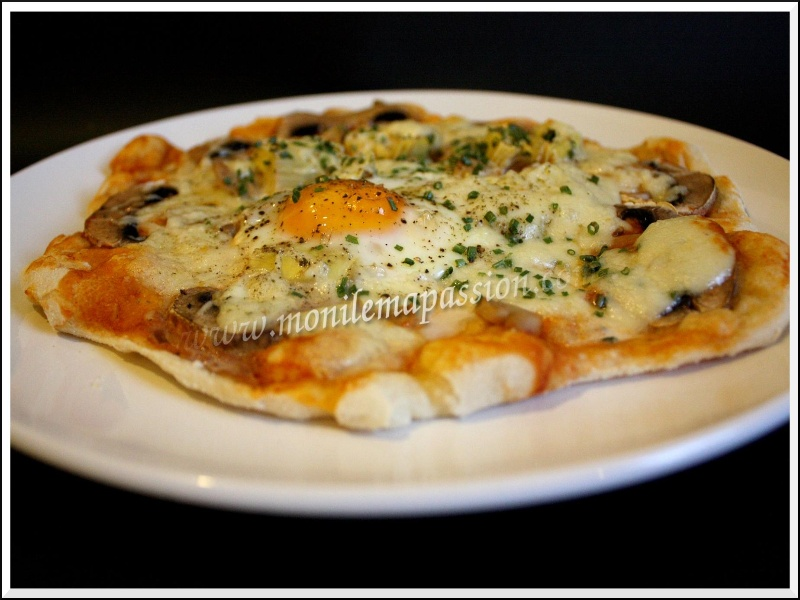oeuf: (264, 178, 411, 248)
